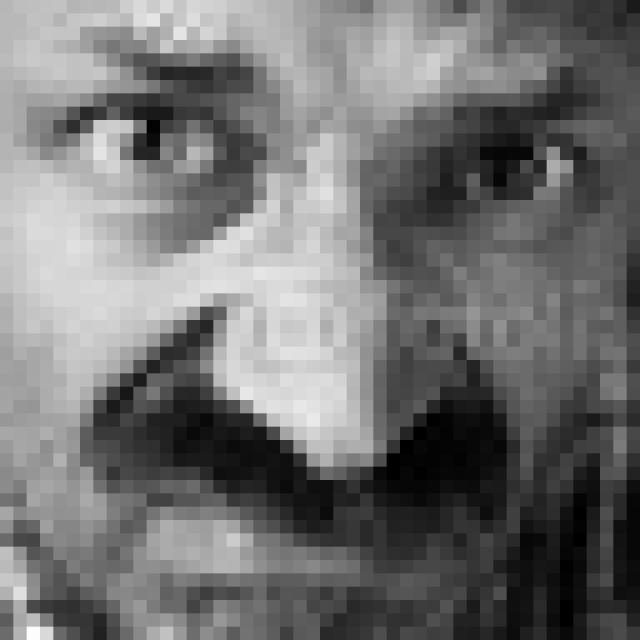disgust: (52, 23, 613, 615)
